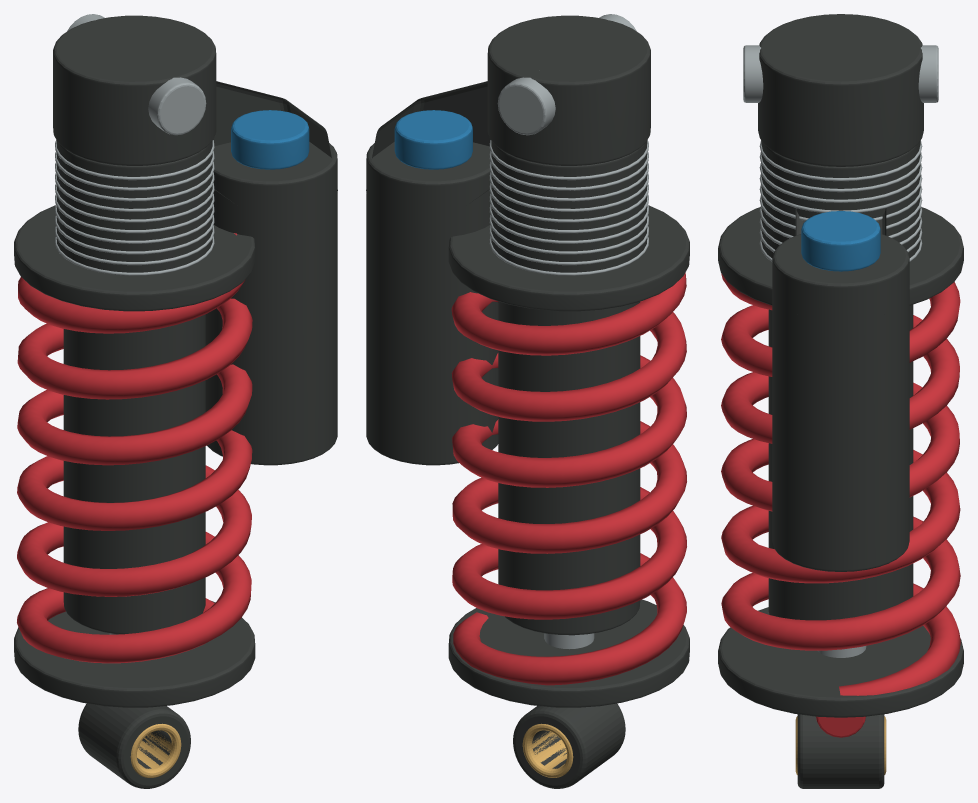
The model's file is rockshox-vivid-coil-ultimate-d1--9a59439e.glb.
3 views of the same model, side by side, from view 1: azimuth 30°, elevation 25°; view 2: azimuth 150°, elevation 25°; view 3: azimuth 270°, elevation 25° (orthographic).
Visible parts, largest first — view 1: rockshox-vivid-coil-ultimate-d1--9a59439e__link, rockshox-vivid-coil-ultimate-d1--9a59439e__rebound, rockshox-vivid-coil-ultimate-d1--9a59439e__bolts, rockshox-vivid-coil-ultimate-d1--9a59439e__adjuster, rockshox-vivid-coil-ultimate-d1--9a59439e__stanchions; view 2: rockshox-vivid-coil-ultimate-d1--9a59439e__link, rockshox-vivid-coil-ultimate-d1--9a59439e__rebound, rockshox-vivid-coil-ultimate-d1--9a59439e__bolts, rockshox-vivid-coil-ultimate-d1--9a59439e__adjuster, rockshox-vivid-coil-ultimate-d1--9a59439e__stanchions; view 3: rockshox-vivid-coil-ultimate-d1--9a59439e__link, rockshox-vivid-coil-ultimate-d1--9a59439e__rebound, rockshox-vivid-coil-ultimate-d1--9a59439e__bolts, rockshox-vivid-coil-ultimate-d1--9a59439e__adjuster.
Boxes of the visible parts, x1,y1,x2,y2 form: rockshox-vivid-coil-ultimate-d1--9a59439e__link: [14, 15, 337, 788]; rockshox-vivid-coil-ultimate-d1--9a59439e__rebound: [17, 233, 252, 663]; rockshox-vivid-coil-ultimate-d1--9a59439e__bolts: [55, 14, 214, 634]; rockshox-vivid-coil-ultimate-d1--9a59439e__adjuster: [231, 110, 309, 169]; rockshox-vivid-coil-ultimate-d1--9a59439e__stanchions: [130, 723, 181, 777]; rockshox-vivid-coil-ultimate-d1--9a59439e__link: [366, 15, 689, 788]; rockshox-vivid-coil-ultimate-d1--9a59439e__rebound: [451, 272, 686, 685]; rockshox-vivid-coil-ultimate-d1--9a59439e__bolts: [489, 14, 648, 649]; rockshox-vivid-coil-ultimate-d1--9a59439e__adjuster: [394, 110, 472, 169]; rockshox-vivid-coil-ultimate-d1--9a59439e__stanchions: [522, 723, 573, 777]; rockshox-vivid-coil-ultimate-d1--9a59439e__link: [718, 14, 963, 788]; rockshox-vivid-coil-ultimate-d1--9a59439e__rebound: [721, 273, 960, 737]; rockshox-vivid-coil-ultimate-d1--9a59439e__bolts: [743, 45, 938, 657]; rockshox-vivid-coil-ultimate-d1--9a59439e__adjuster: [801, 211, 880, 271].
Bounding box in the file's own units: 0.097 × 0.225 × 0.068.
